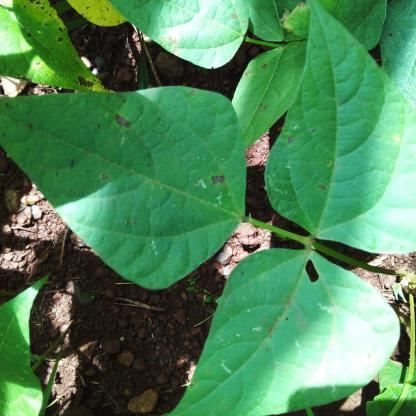Beans_Angular_LeafSpot: (6, 95, 249, 288), (267, 0, 413, 262), (178, 254, 396, 411), (8, 1, 110, 93), (106, 3, 248, 63), (231, 50, 285, 152), (371, 0, 416, 103)
